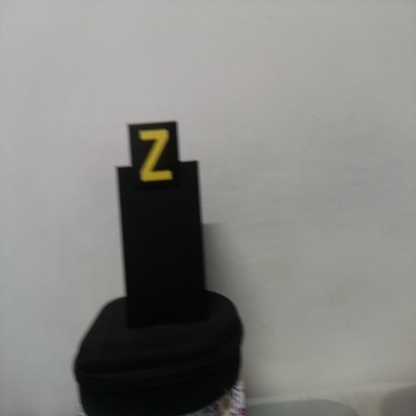id_15: (128, 124, 178, 189)
